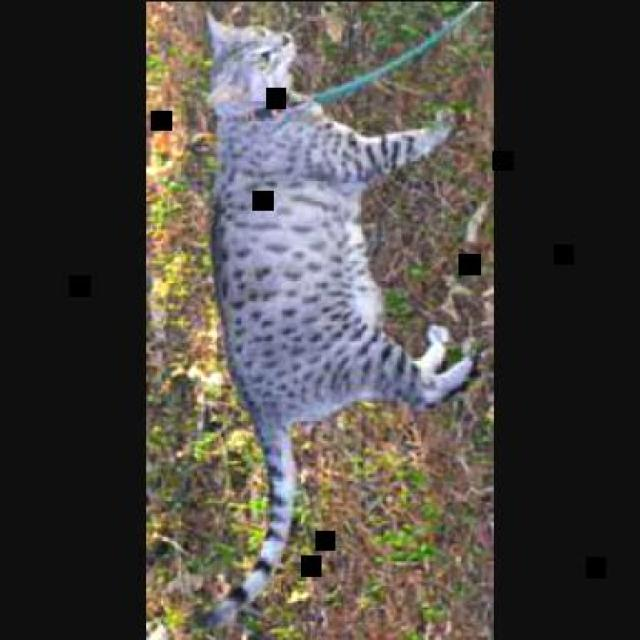unauthorized: (200, 6, 482, 637)
